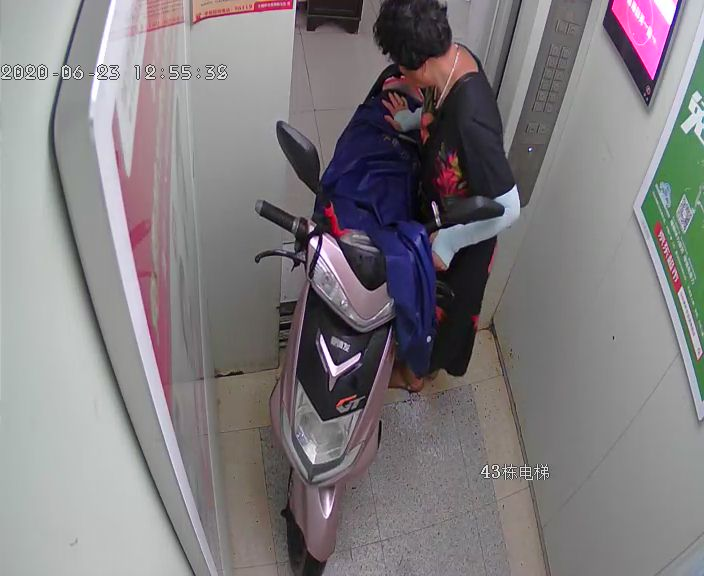Electric-bicycle: (249, 62, 428, 565)
